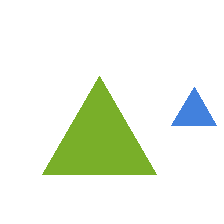triangle: (42, 76, 156, 174), (171, 87, 216, 125)
